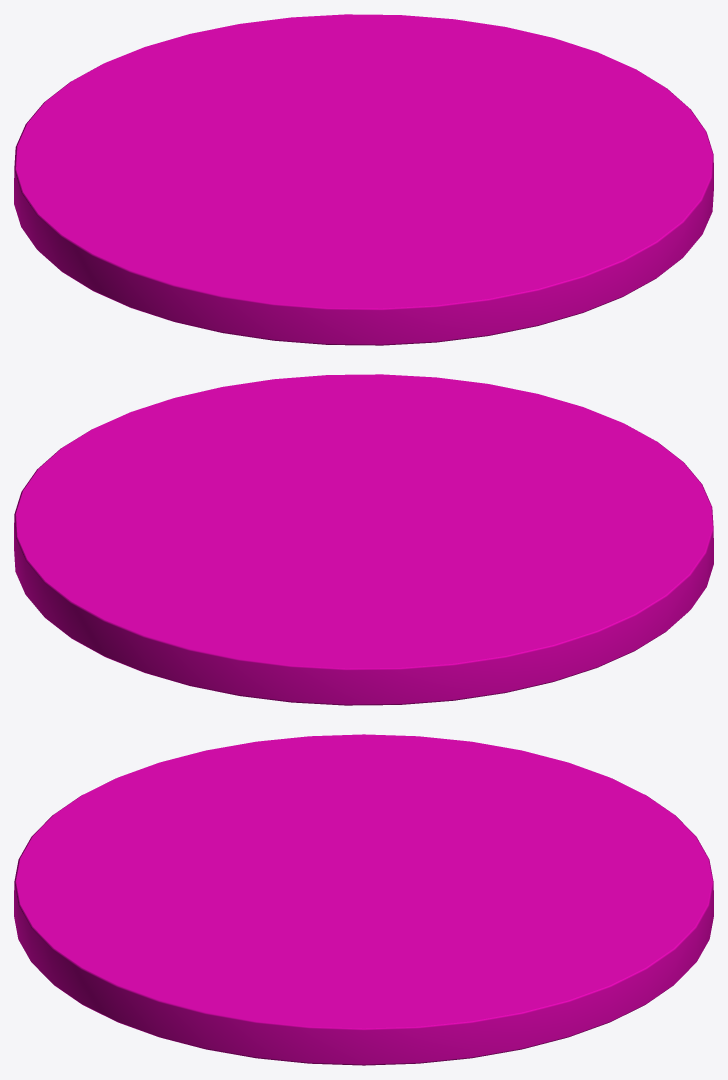
The model's file is Cylindre_Lign.fbx.
3 renders of one model, top to bottom at view 1: azimuth 30°, elevation 25°; view 2: azimuth 150°, elevation 25°; view 3: azimuth 270°, elevation 25°, orthographic.
Parts seen in each view (by area): view 1: Cylindre_Lign; view 2: Cylindre_Lign; view 3: Cylindre_Lign.
Boxes of the visible parts, left/top/right/bottom form: Cylindre_Lign: left=14, top=14, right=713, bottom=345; Cylindre_Lign: left=14, top=374, right=713, bottom=705; Cylindre_Lign: left=14, top=734, right=713, bottom=1065.
Bounding box in the file's own units: 72.47 × 4.22 × 72.47.
